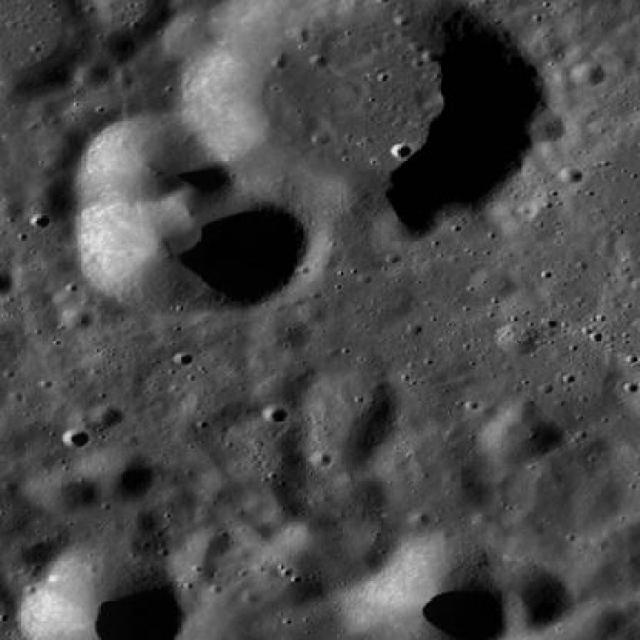crater: (171, 0, 537, 240), (76, 164, 296, 324), (76, 114, 235, 230), (0, 0, 105, 97), (286, 510, 392, 588), (378, 428, 484, 506), (467, 559, 570, 636), (306, 372, 399, 439), (300, 420, 380, 478), (253, 550, 332, 608), (77, 444, 154, 501), (483, 410, 560, 467), (180, 376, 254, 430), (82, 0, 175, 38), (236, 437, 304, 488), (28, 467, 96, 516), (346, 281, 412, 330), (156, 11, 222, 58), (373, 201, 438, 247), (514, 462, 578, 508), (1, 534, 62, 580), (22, 177, 82, 220), (253, 310, 310, 352), (67, 93, 124, 135), (332, 474, 388, 514), (572, 600, 626, 640), (165, 418, 218, 456), (36, 132, 89, 170), (572, 558, 622, 596), (438, 470, 488, 507), (168, 548, 216, 584), (200, 471, 248, 507), (95, 30, 143, 64), (471, 266, 517, 300), (256, 376, 302, 409), (263, 492, 306, 526), (72, 59, 116, 92), (188, 524, 230, 556), (498, 323, 540, 354), (10, 265, 50, 293), (24, 308, 62, 336), (528, 112, 564, 140), (236, 520, 270, 546), (62, 305, 96, 330), (220, 504, 251, 527), (467, 401, 498, 424), (576, 434, 606, 457), (162, 488, 193, 510), (572, 64, 602, 86), (92, 405, 121, 427), (507, 398, 536, 420), (0, 200, 28, 222), (124, 508, 152, 528), (298, 302, 326, 322), (62, 427, 88, 447), (615, 234, 640, 254), (23, 293, 49, 312), (264, 403, 290, 422), (567, 46, 590, 63), (390, 142, 412, 158), (410, 511, 432, 526)
